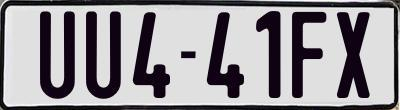1: (255, 11, 285, 99)
4: (131, 10, 171, 98), (205, 10, 245, 98)
F: (292, 11, 332, 97)
U: (37, 11, 77, 105), (84, 9, 119, 99)
X: (337, 11, 376, 101)
